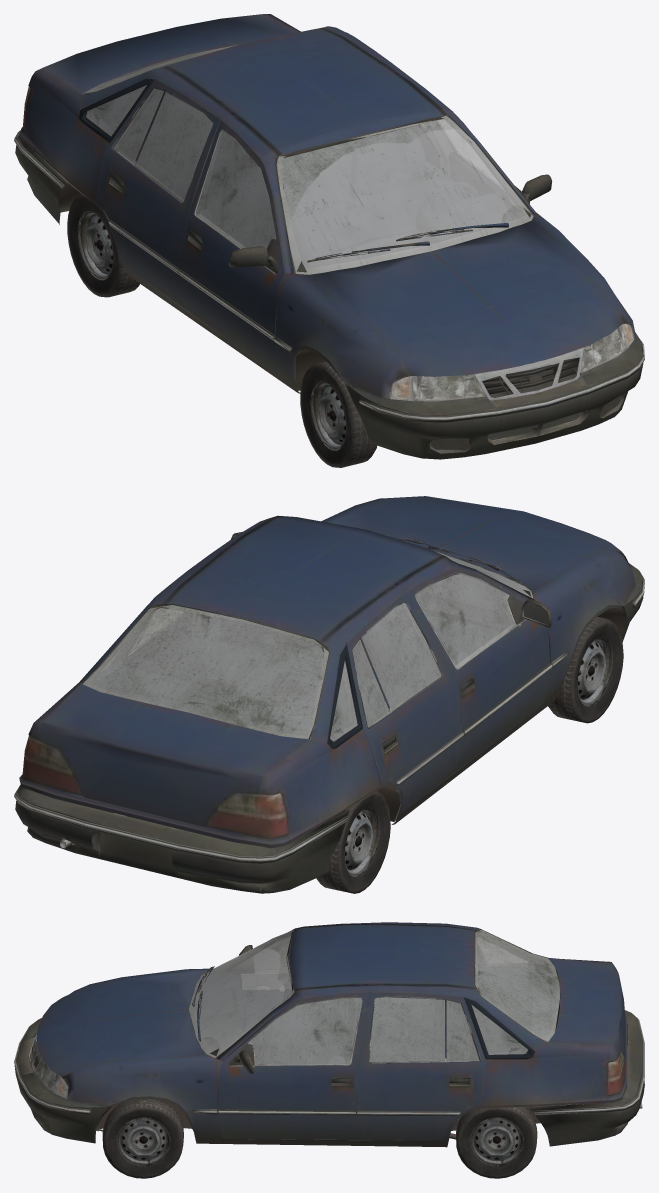
3 renders of one model, top to bottom at view 1: azimuth 30°, elevation 25°; view 2: azimuth 150°, elevation 25°; view 3: azimuth 270°, elevation 25°, orthographic. The views are drawn at different scales.
Parts seen in each view (by area): view 1: Plane.002_Low, Plane.054, Tire_Low.002, Tire_Low.004, Plane.001; view 2: Plane.002_Low, Plane.054, Tire_Low.002, Tire_Low.004; view 3: Plane.002_Low, Plane.054, Tire_Low.003, Tire_Low.001, Plane.001.
Part boxes in pixels (x1,y1,x2,y2): Plane.002_Low: [14, 14, 644, 459]; Plane.054: [83, 44, 533, 274]; Tire_Low.002: [300, 361, 376, 467]; Tire_Low.004: [67, 194, 139, 297]; Plane.001: [390, 323, 633, 401]; Plane.002_Low: [14, 496, 644, 893]; Plane.054: [83, 551, 533, 741]; Tire_Low.002: [548, 616, 623, 723]; Tire_Low.004: [316, 790, 390, 893]; Plane.002_Low: [14, 922, 644, 1147]; Plane.054: [189, 930, 559, 1057]; Tire_Low.003: [102, 1099, 183, 1178]; Tire_Low.001: [456, 1107, 537, 1178]; Plane.001: [35, 1059, 68, 1098].
Bounding box in the file's own units: 2 × 1.41 × 4.48.
Materials: 3 (3 with a texture image).
